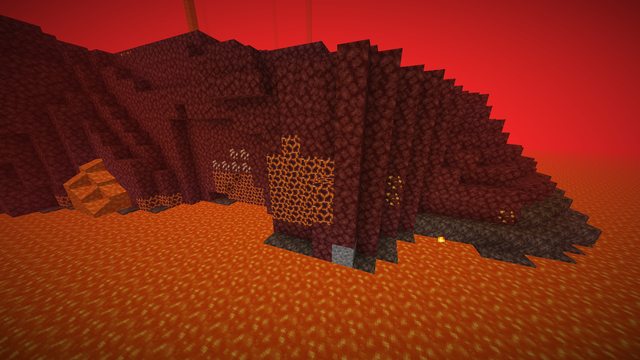nethergold: (384, 174, 404, 207), (497, 206, 519, 226)
quartz: (212, 147, 253, 174)
